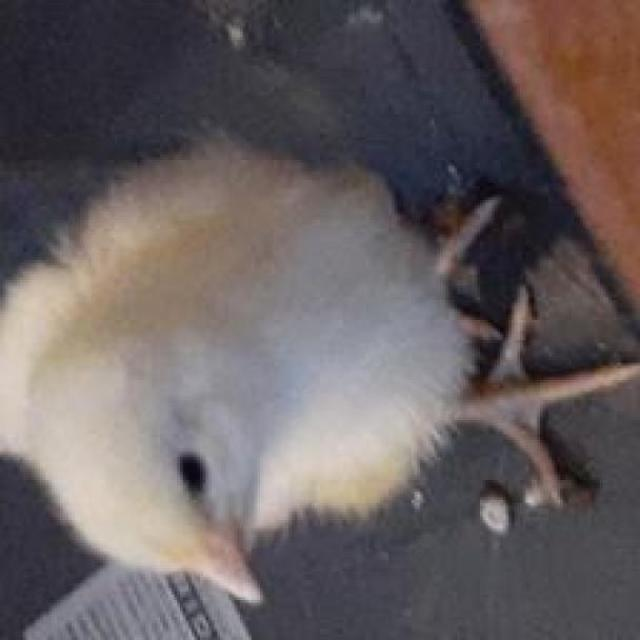Chicken: (8, 134, 640, 611)
